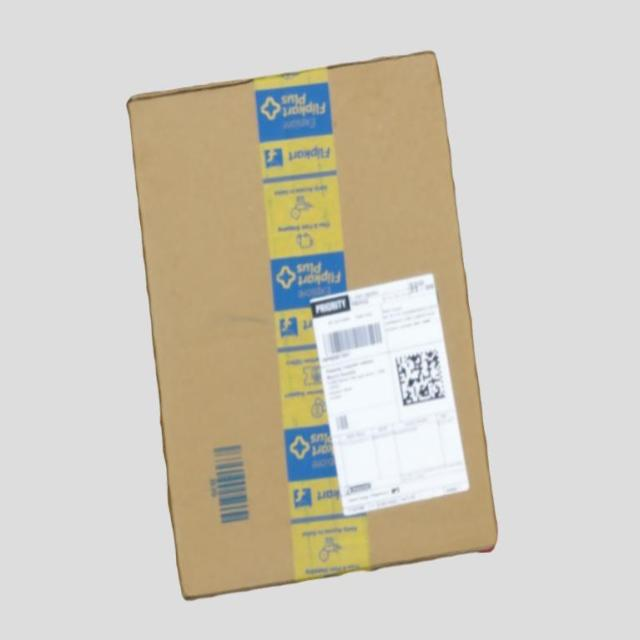box: (127, 50, 497, 598)
